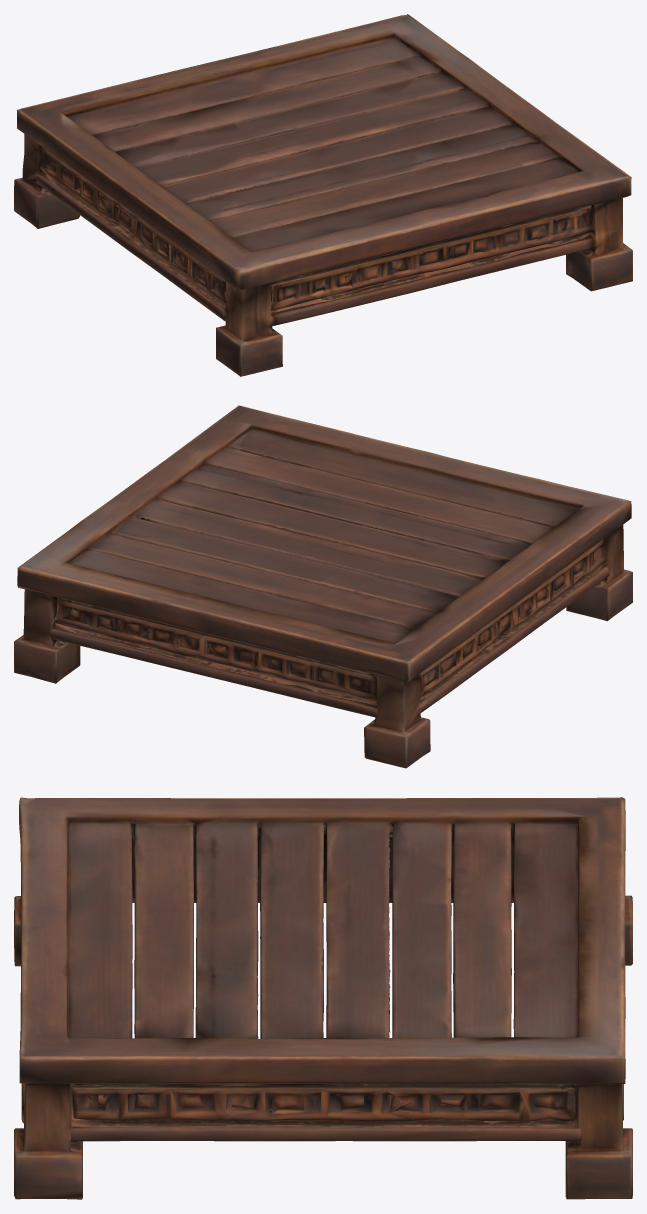
Rendered from Meshy_AI_Oriental_Wooden_Platf_0220192344_texture.glb.
The picture shows the model from 3 angles, top to bottom: view 1: azimuth 30°, elevation 25°; view 2: azimuth 150°, elevation 25°; view 3: azimuth 270°, elevation 25°; orthographic projection. The views are drawn at different scales.
Parts seen in each view (by area): view 1: Mesh1; view 2: Mesh1; view 3: Mesh1.
Boxes of the visible parts, x1,y1,x2,y2 form: Mesh1: (14, 14, 632, 376); Mesh1: (14, 405, 632, 768); Mesh1: (14, 797, 632, 1199).
Bounding box in the file's own units: 2 × 0.5069 × 2.
Materials: 1 (1 with a texture image).
